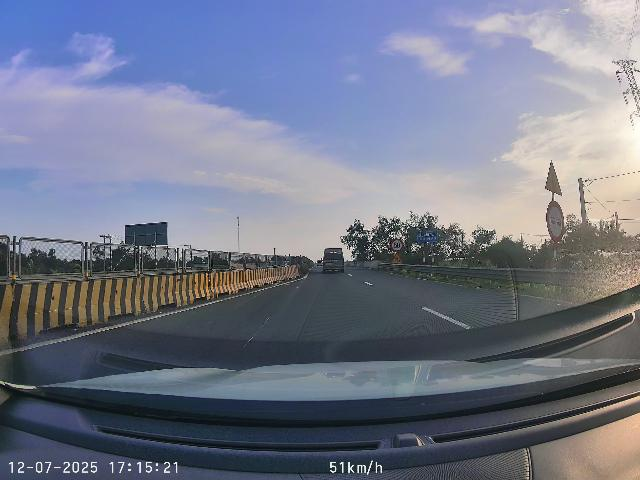125-cam-vuot: (546, 200, 565, 243)
127-toc-do-toi-da-50: (390, 238, 404, 252)
227-cong-truong: (391, 253, 403, 264)
